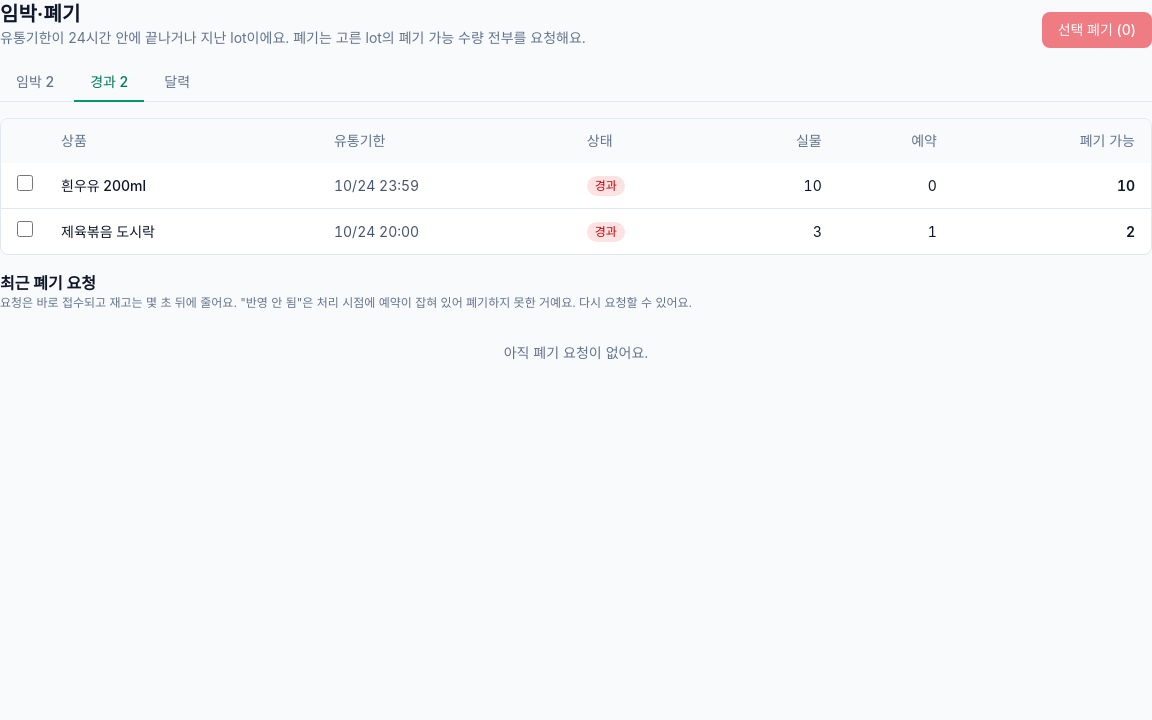
Test case: 유통기한 관리 (S-30·S-32) › 확인 모달에서 폐기 요청하면 lot 마다 전량을 보내고 성공 토스트를 띄운다
The image size is (1152, 720).
Step 1. Click the checkbox named "흰우유 200ml 선택" → click(25, 183), box [17, 175, 33, 191]
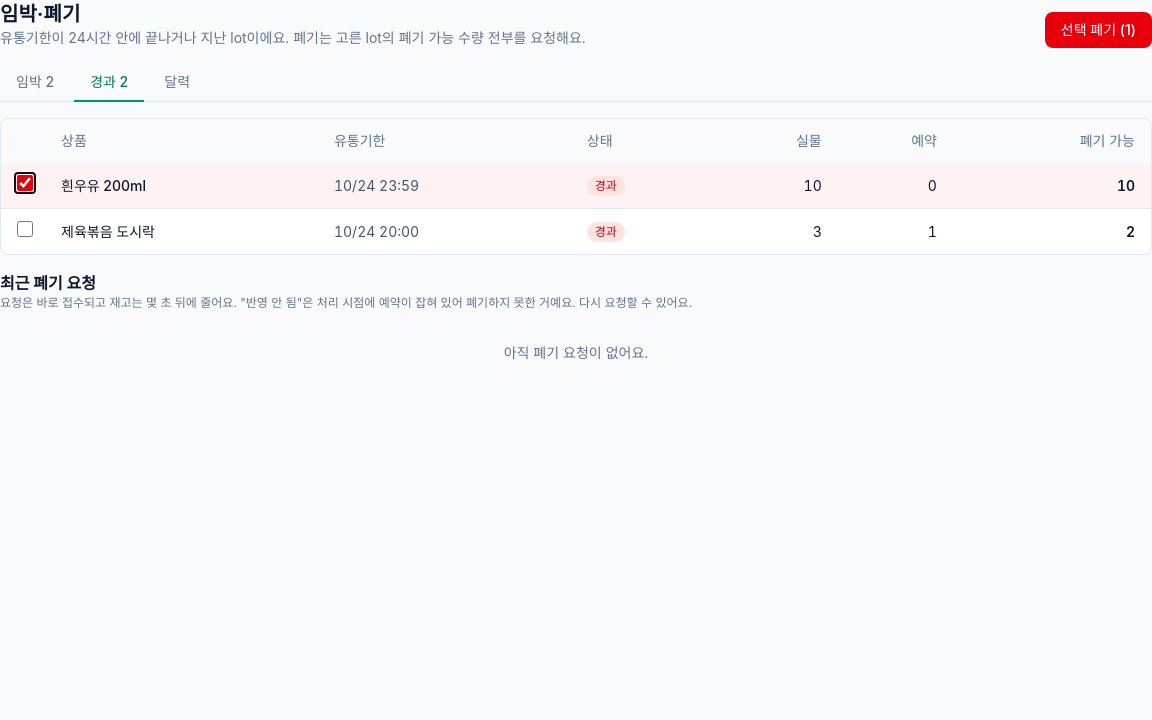
Step 2. Click the checkbox named "제육볶음 도시락 선택" → click(25, 229), box [17, 221, 33, 237]
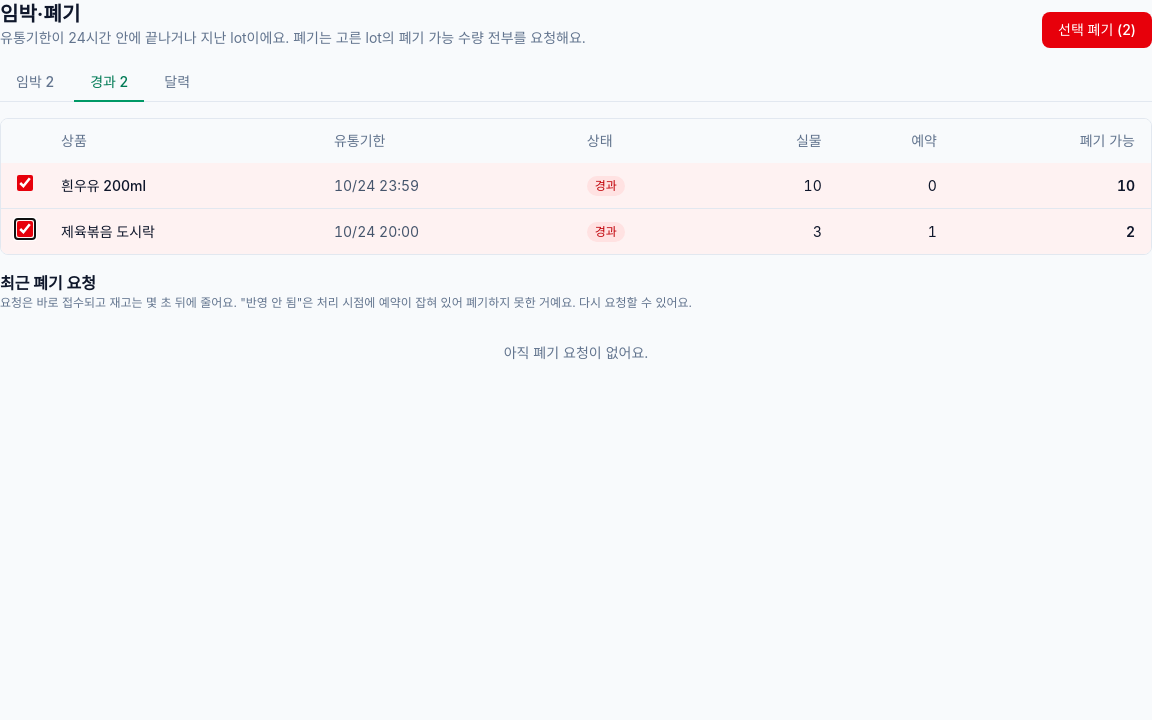
Step 3. Click the button "선택 폐기 (2)" → click(1097, 30), box [1042, 12, 1151, 48]
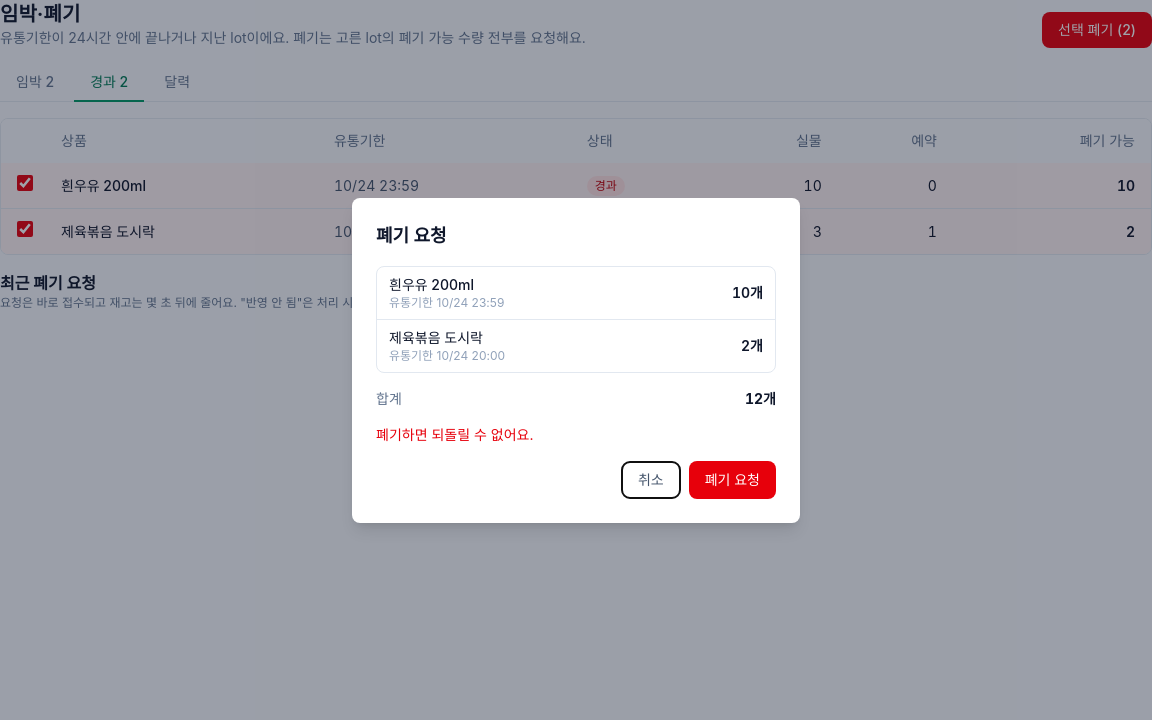
Expected: the text "폐기하면 되돌릴 수 없어요." is shown, [376, 426, 534, 442]
Expected: the text "10개" is shown, [732, 282, 763, 302]
Expected: the text "2개" is shown, [741, 336, 763, 356]
Step 4. Click the button "폐기 요청" → click(732, 480), box [689, 460, 776, 498]
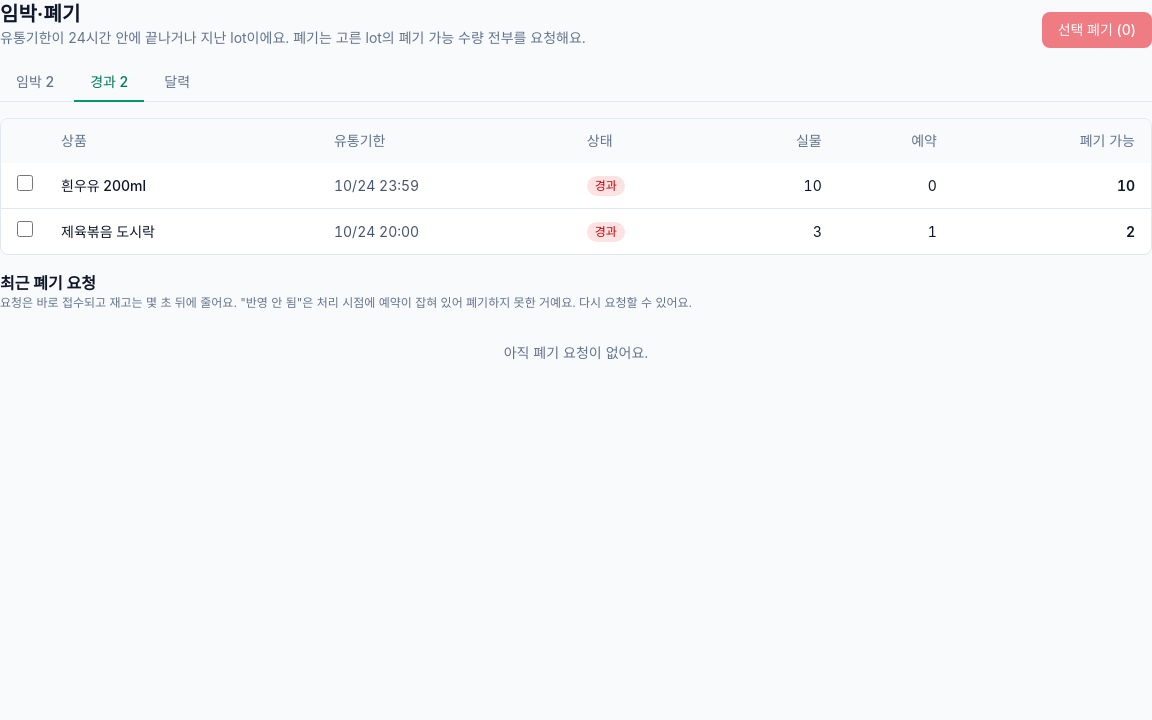
Expected: the dialog is gone
Expected: the button "선택 폐기 (0)" is shown, [1042, 12, 1151, 48]
